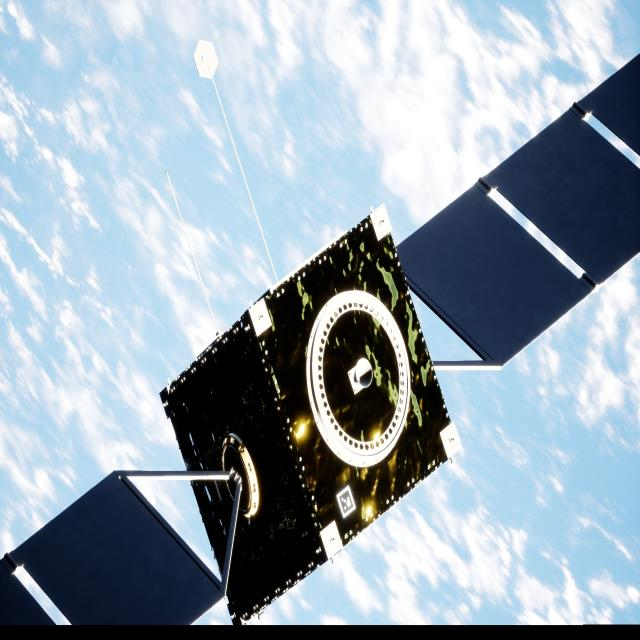satellite: (0, 53, 640, 627)
